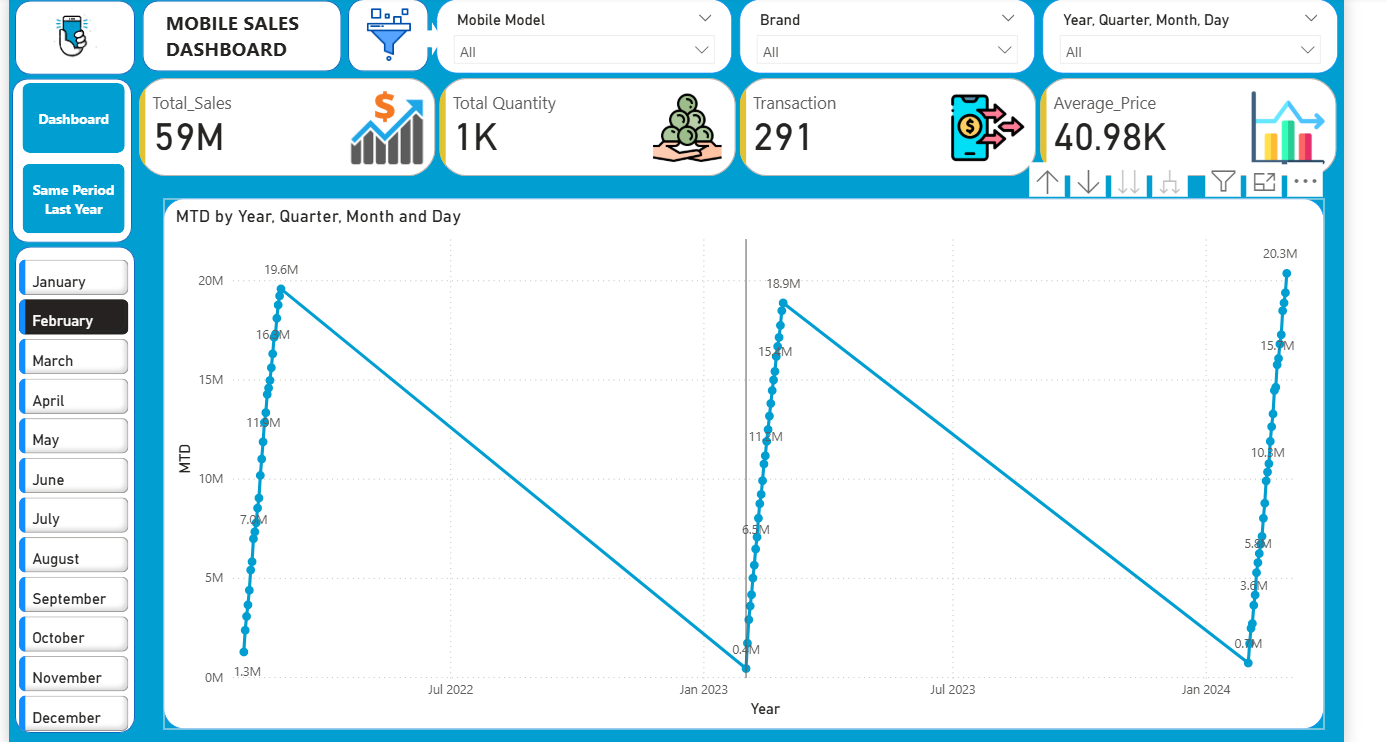

The page's visual inventory and layout, read from the dashboard file:
{"tool":"powerbi","page":{"name":"MTD","canvas":[1280,720],"ordinal":1},"visuals":[{"type":"shape","box":[6.1,4.5,115.1,71.2],"z":0},{"type":"image","box":[1.5,7.6,118.1,65.1],"z":1000},{"type":"shape","box":[3,78.7,115.1,157.5],"z":2000},{"type":"cardVisual","fields":{"Data":["Mobile_Sales_Data.Total_Sales","Mobile_Sales_Data.Total Quantity","Mobile_Sales_Data.Transaction","Mobile_Sales_Data.Average_Price"]},"box":[119.6,72.7,1159.9,104.5],"z":3000},{"type":"slicer","fields":{"Values":["Mobile_Sales_Data.Mobile Model"]},"box":[410.3,3,283.2,71.2],"z":4000},{"type":"slicer","fields":{"Values":["Mobile_Sales_Data.Brand"]},"box":[701.1,3,283.2,71.2],"z":5000},{"type":"slicer","fields":{"Values":["Custom_Calender.Date.Variation.Date Hierarchy.Year","Custom_Calender.Date.Variation.Date Hierarchy.Quarter","Custom_Calender.Date.Variation.Date Hierarchy.Month","Custom_Calender.Date.Variation.Date Hierarchy.Day"]},"box":[990.3,3,283.2,71.2],"z":6000},{"type":"shape","box":[325.6,3,77.2,69.7],"z":7000},{"type":"image","box":[324,6.1,81.8,62.1],"z":8000},{"type":"shape","box":[395.2,24.2,19.7,33.3],"z":9000},{"type":"shape","box":[128.7,4.5,190.8,68.1],"z":10000},{"type":"textbox","box":[145.4,7.6,157.5,60.6],"z":11000},{"type":"lineChart","fields":{"Y":["Mobile_Sales_Data.MTD"],"Category":["Custom_Calender.Date.Variation.Date Hierarchy.Year","Custom_Calender.Date.Variation.Date Hierarchy.Quarter","Custom_Calender.Date.Variation.Date Hierarchy.Month","Custom_Calender.Date.Variation.Date Hierarchy.Day"]},"box":[148.4,193.8,1112.9,508.8],"z":12000},{"type":"shape","box":[6.1,240.8,115.1,466.4],"z":13000},{"type":"advancedSlicerVisual","fields":{"Values":["Custom_Calender.Date.Variation.Date Hierarchy.Month"]},"box":[4.5,246.8,115.1,472.4],"z":14000},{"type":"pageNavigator","box":[13.3,83.3,98.3,145],"z":15000}]}

Visuals, with their boxes in screenshot pixels (x1, y1, x2, y2):
shape: [x1=10, y1=0, x2=131, y2=72]
image: [x1=5, y1=1, x2=129, y2=69]
shape: [x1=7, y1=76, x2=128, y2=241]
cardVisual - Mobile_Sales_Data.Total_Sales x Mobile_Sales_Data.Total Quantity: [x1=129, y1=69, x2=1349, y2=179]
slicer - Mobile_Sales_Data.Mobile Model: [x1=435, y1=0, x2=733, y2=71]
slicer - Mobile_Sales_Data.Brand: [x1=741, y1=0, x2=1039, y2=71]
slicer - Custom_Calender.Date.Variation.Date Hierarchy.Year x Custom_Calender.Date.Variation.Date Hierarchy.Quarter: [x1=1045, y1=0, x2=1343, y2=71]
shape: [x1=346, y1=0, x2=427, y2=69]
image: [x1=344, y1=0, x2=430, y2=64]
shape: [x1=419, y1=18, x2=440, y2=53]
shape: [x1=139, y1=0, x2=340, y2=69]
textbox: [x1=156, y1=1, x2=322, y2=64]
lineChart - Mobile_Sales_Data.MTD x Custom_Calender.Date.Variation.Date Hierarchy.Year: [x1=160, y1=197, x2=1330, y2=732]
shape: [x1=10, y1=246, x2=131, y2=736]
advancedSlicerVisual - Custom_Calender.Date.Variation.Date Hierarchy.Month: [x1=8, y1=252, x2=129, y2=741]
pageNavigator: [x1=18, y1=80, x2=121, y2=233]
